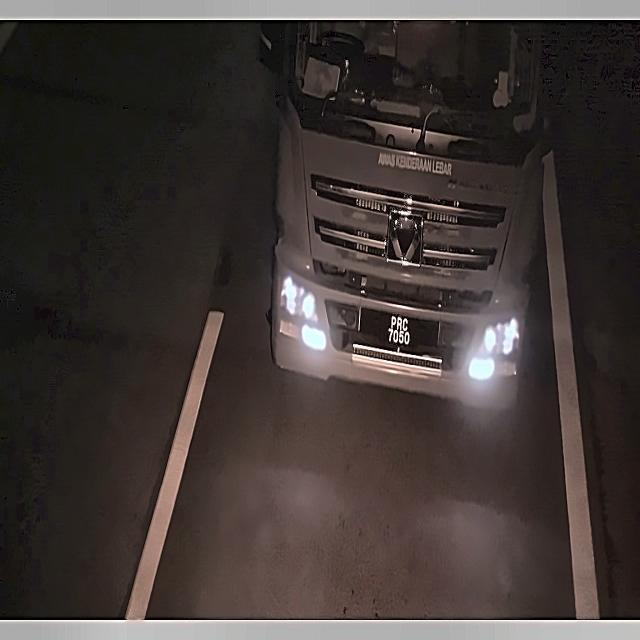car: (356, 297, 453, 358)
